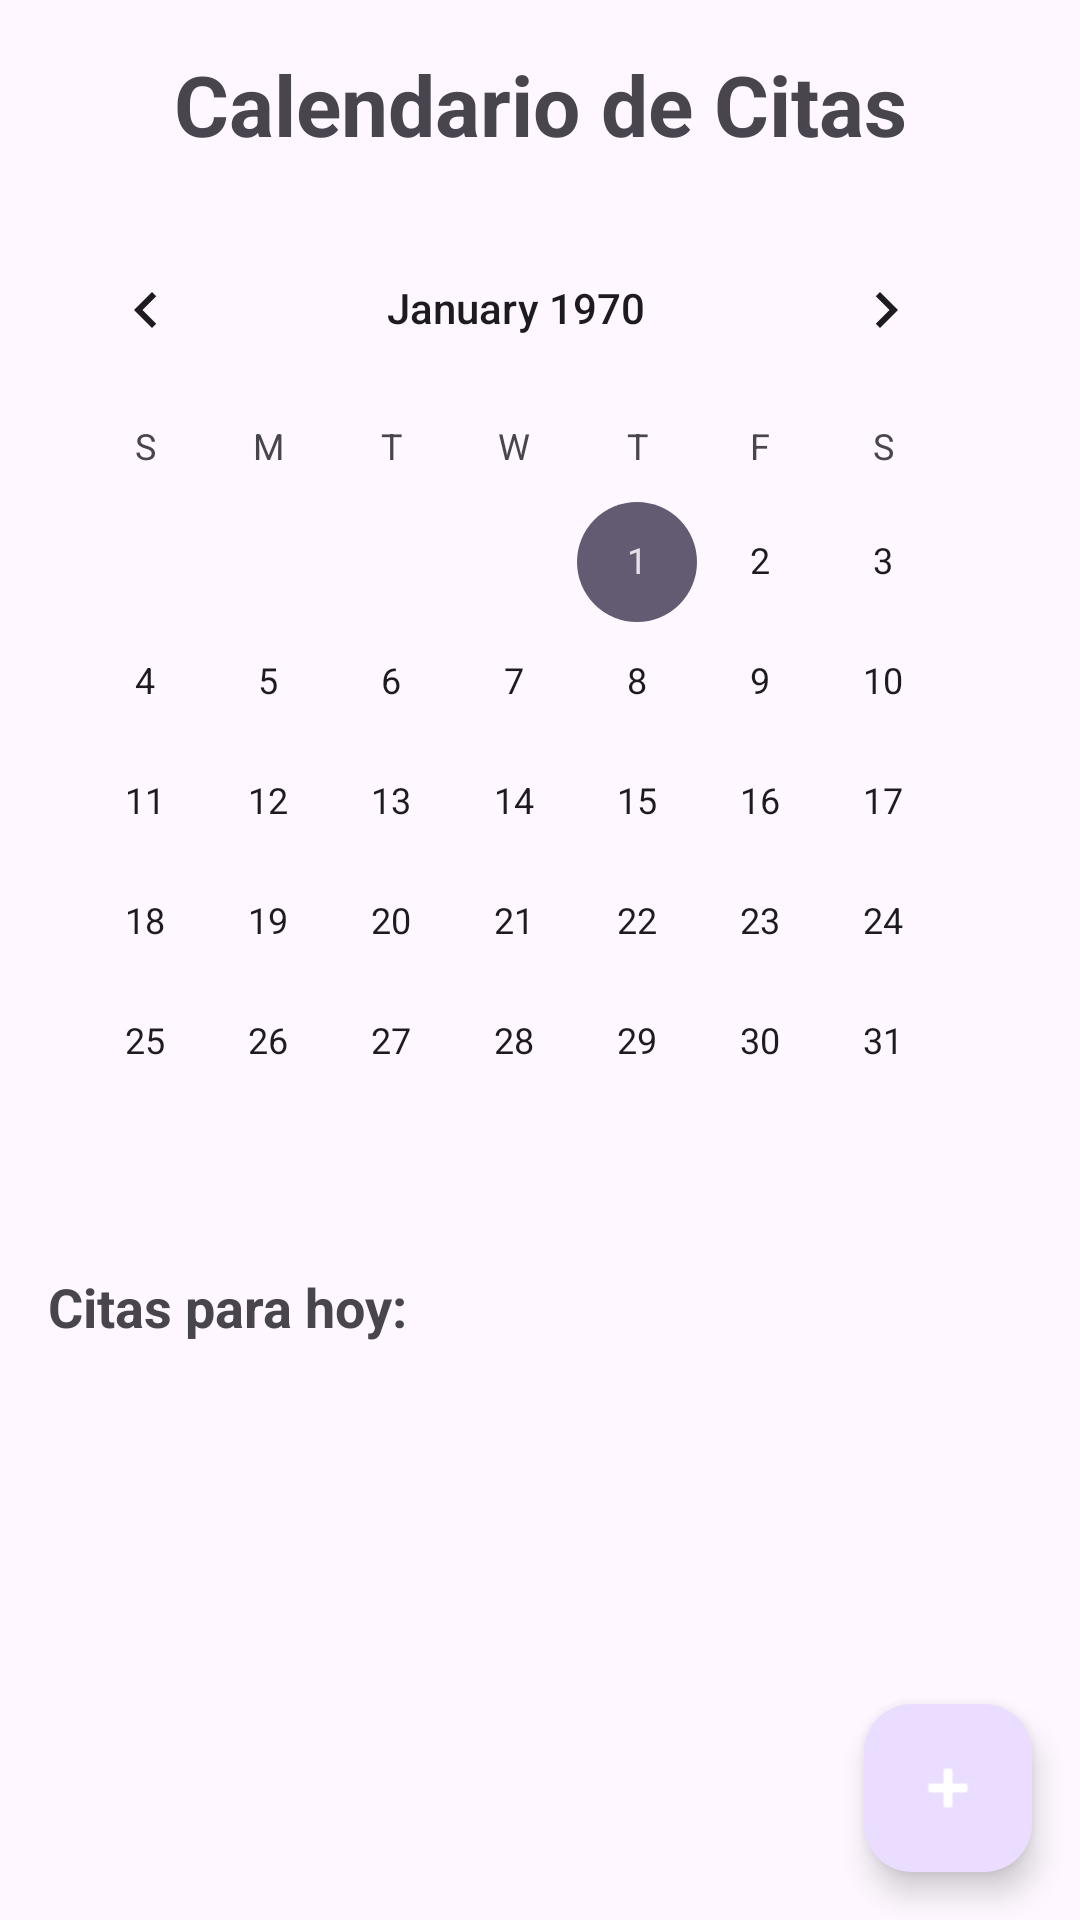

Icon bounding boxes for this 1080px×1920px phone screenshot, format (left=x1, top=y1, right=x2, bottom=y2):
Añadir Cita: (left=864, top=1704, right=1032, bottom=1872)
